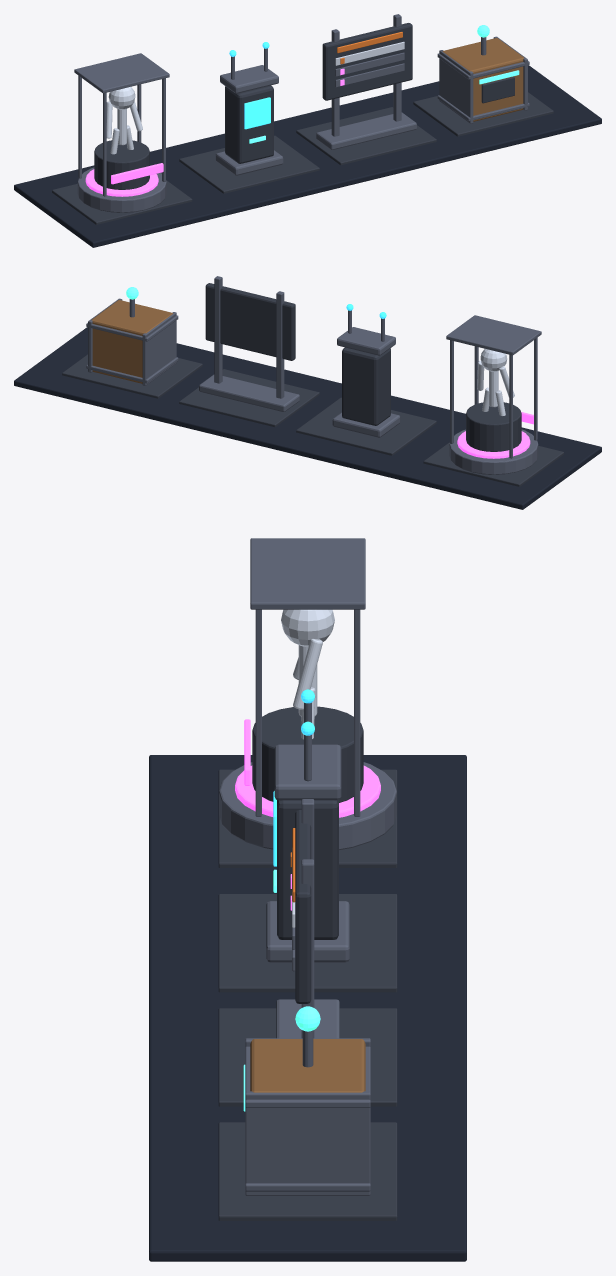
Rendered from snatch-world-props-v1.glb.
3 renders of one model, top to bottom at view 1: azimuth 30°, elevation 25°; view 2: azimuth 150°, elevation 25°; view 3: azimuth 270°, elevation 25°, orthographic. The views are drawn at different scales.
Parts seen in each view (by area): view 1: Preview_Ground, Board_Panel, Preview_Plinth.001, Cargo_Crate, Transit_Body, Preview_Plinth.002, Vault_CageTop, Preview_Plinth.003, Vault_Pedestal, Board_Base, Vault_Base, Preview_Plinth (+20 smaller); view 2: Preview_Ground, Board_Panel, Cargo_Crate, Transit_Body, Preview_Plinth.001, Preview_Plinth.002, Vault_Pedestal, Vault_CageTop, Preview_Plinth.003, Board_Base, Vault_Base, Preview_Plinth (+13 smaller); view 3: Preview_Ground, Preview_Plinth.001, Cargo_Edge.001, Preview_Plinth.003, Vault_CageTop, Preview_Plinth.002, Cargo_Crate, Transit_Body, Vault_Base, Vault_Pedestal, Preview_Plinth, Transit_Header (+9 smaller).
Part boxes in pixels (x1=…): Preview_Ground: x1=14, y1=65, x2=601, y2=247; Board_Panel: x1=322, y1=23, x2=412, y2=100; Preview_Plinth.001: x1=179, y1=135, x2=319, y2=193; Cargo_Crate: x1=442, y1=38, x2=523, y2=121; Transit_Body: x1=225, y1=85, x2=273, y2=163; Preview_Plinth.002: x1=296, y1=107, x2=436, y2=165; Vault_CageTop: x1=74, y1=53, x2=169, y2=93; Preview_Plinth.003: x1=413, y1=92, x2=553, y2=136; Vault_Pedestal: x1=94, y1=140, x2=149, y2=189; Board_Base: x1=316, y1=112, x2=416, y2=149; Vault_Base: x1=77, y1=167, x2=166, y2=212; Preview_Plinth: x1=52, y1=180, x2=192, y2=224; Preview_Ground: x1=14, y1=327, x2=601, y2=509; Board_Panel: x1=205, y1=283, x2=295, y2=360; Cargo_Crate: x1=92, y1=300, x2=173, y2=383; Transit_Body: x1=342, y1=347, x2=390, y2=425; Preview_Plinth.001: x1=296, y1=397, x2=436, y2=455; Preview_Plinth.002: x1=179, y1=369, x2=319, y2=427; Vault_Pedestal: x1=466, y1=402, x2=521, y2=451; Vault_CageTop: x1=446, y1=315, x2=541, y2=355; Preview_Plinth.003: x1=62, y1=354, x2=202, y2=398; Board_Base: x1=199, y1=374, x2=299, y2=411; Vault_Base: x1=449, y1=429, x2=538, y2=474; Preview_Plinth: x1=423, y1=442, x2=563, y2=486; Preview_Ground: x1=149, y1=755, x2=466, y2=1261; Preview_Plinth.001: x1=218, y1=894, x2=397, y2=992; Cargo_Edge.001: x1=245, y1=1091, x2=370, y2=1195; Preview_Plinth.003: x1=218, y1=1122, x2=397, y2=1220; Vault_CageTop: x1=250, y1=538, x2=365, y2=609; Preview_Plinth.002: x1=218, y1=1008, x2=397, y2=1106; Cargo_Crate: x1=250, y1=1039, x2=365, y2=1092; Transit_Body: x1=277, y1=800, x2=338, y2=939; Vault_Base: x1=219, y1=762, x2=396, y2=849; Vault_Pedestal: x1=252, y1=706, x2=363, y2=802; Preview_Plinth: x1=218, y1=769, x2=397, y2=867; Transit_Header: x1=274, y1=744, x2=341, y2=800.
Bounding box in the file's own units: 14.8 × 3.64 × 4.
